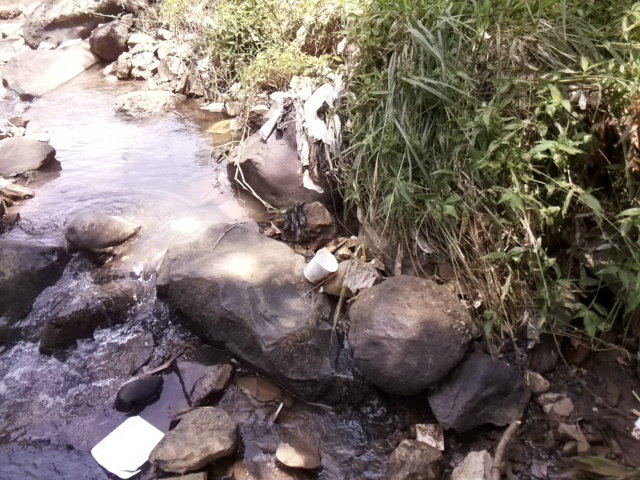Sampah_Styrofoam: (88, 413, 169, 480), (302, 243, 341, 295)
